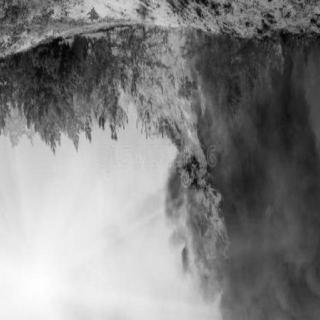Fire: (82, 30, 228, 277), (258, 34, 291, 92), (57, 28, 80, 56)
Smoke: (212, 85, 314, 312)
